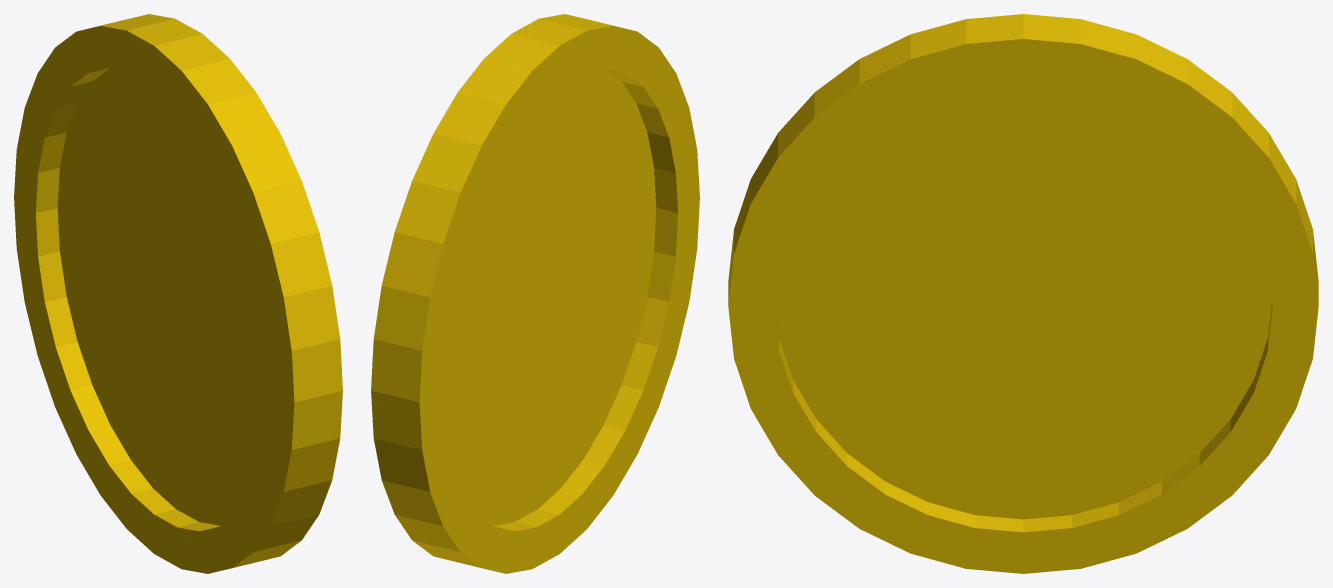
Rendered from SM_Coin.fbx.
3 views of the same model, side by side, from view 1: azimuth 30°, elevation 25°; view 2: azimuth 150°, elevation 25°; view 3: azimuth 270°, elevation 25° (orthographic). The views are drawn at different scales.
Parts seen in each view (by area): view 1: coin.001; view 2: coin.001; view 3: coin.001.
Boxes of the visible parts, x1,y1,x2,y2 form: coin.001: [14, 14, 342, 573]; coin.001: [371, 14, 699, 573]; coin.001: [728, 14, 1318, 573].
Bounding box in the file's own units: 8.8 × 88 × 88.
